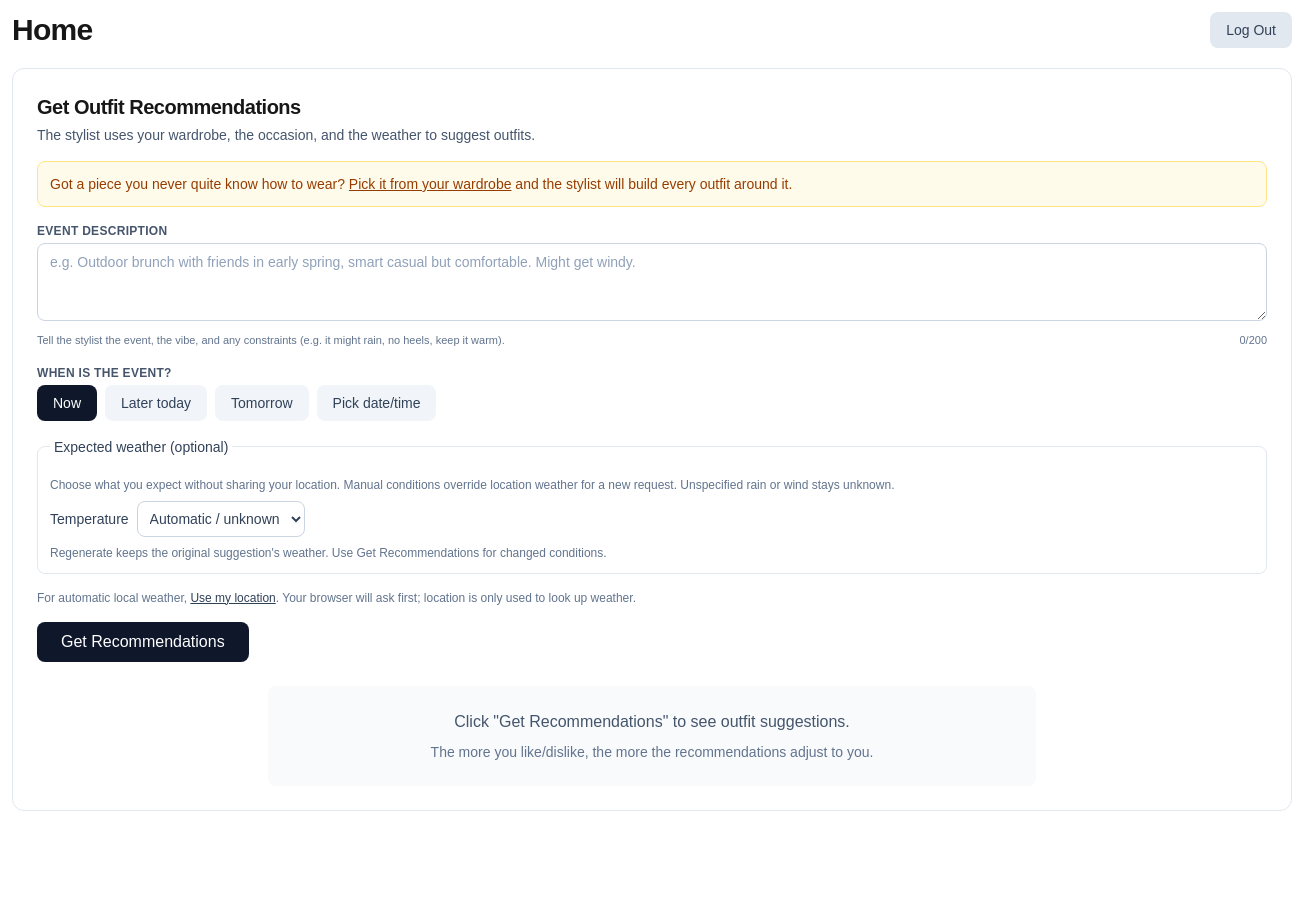
it: dashboard — a 5xx keeps the pending envelope, a stable 4xx clears it (DEFECTS-H90) › a stable 4xx is terminal — the envelope is cleared (replaying a reject buys nothing)
Type "class on campus" into the text box with placeholder "Outdoor brunch with friends" at (652, 282), box [37, 243, 1267, 321]
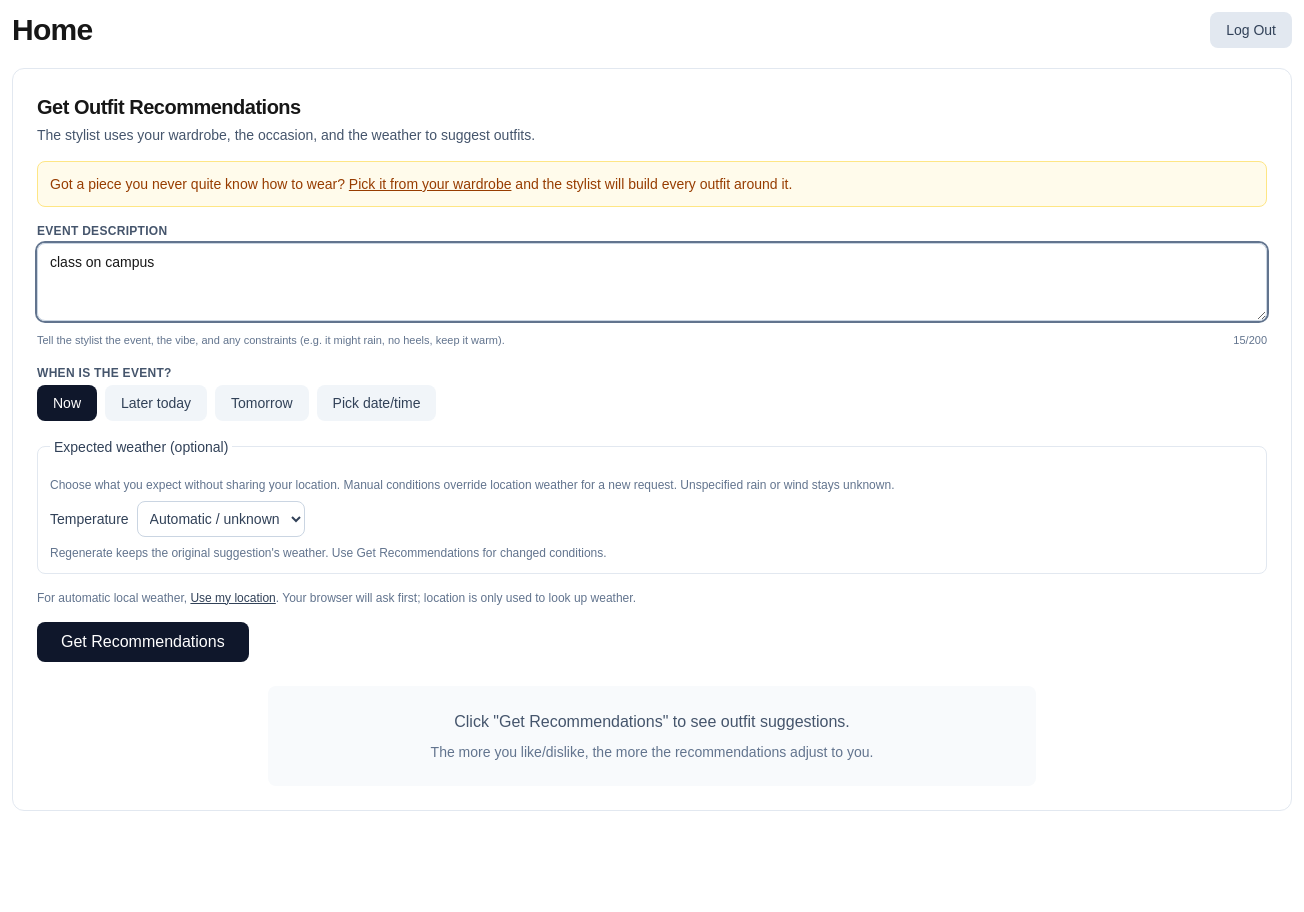
Click the button "Get Recommendations" at (143, 642), box [37, 622, 249, 662]
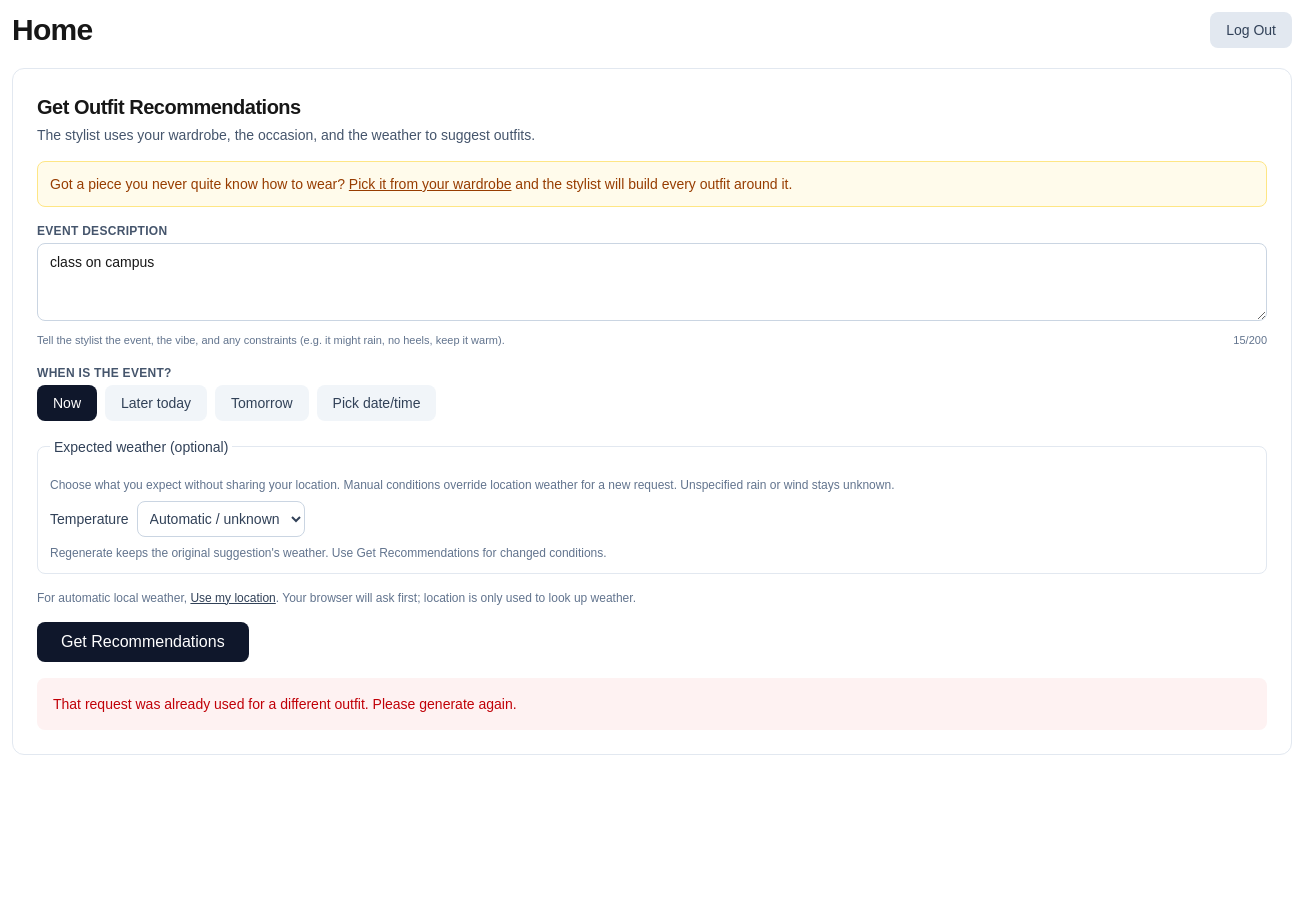
Result: the text "already used for a different outfit" is shown at [53, 696, 517, 712]
